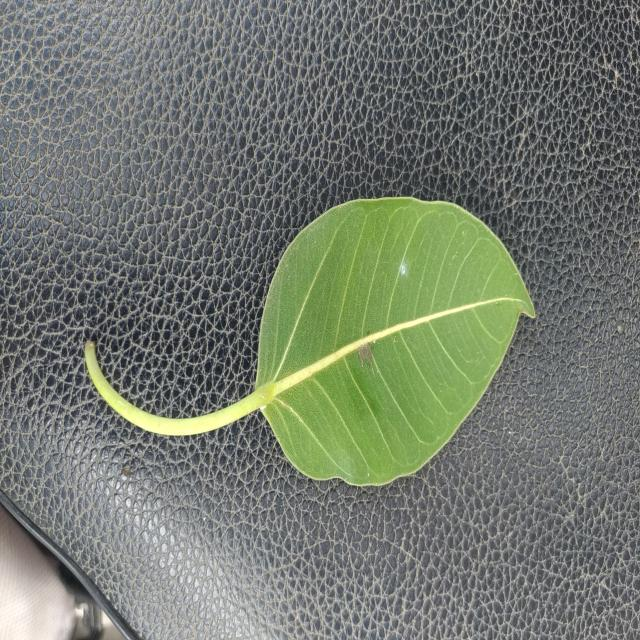camphor: (196, 198, 534, 484)
